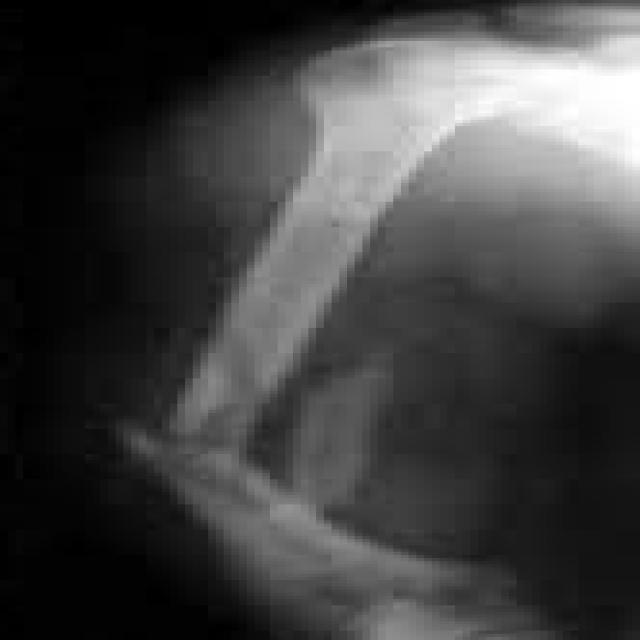Broken: (146, 72, 442, 445), (121, 432, 507, 608)
